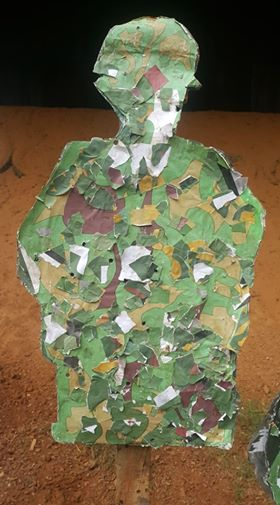Bullet: (69, 272, 75, 279), (80, 241, 86, 247), (108, 258, 114, 264), (175, 105, 181, 111), (153, 269, 158, 274), (141, 321, 146, 326), (126, 382, 131, 387), (65, 372, 70, 377), (123, 279, 127, 284), (146, 329, 150, 334), (113, 141, 118, 145), (78, 371, 82, 376), (136, 26, 140, 30)
